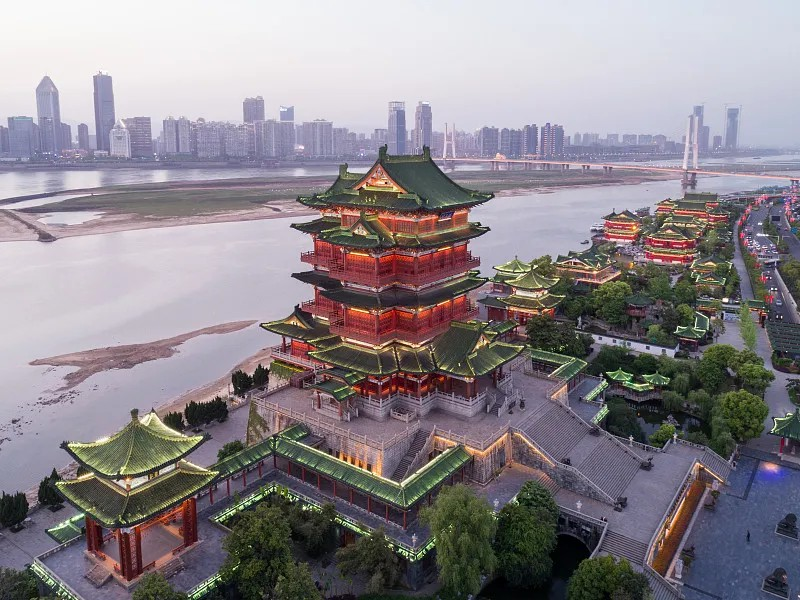Teng: (260, 145, 525, 408)
